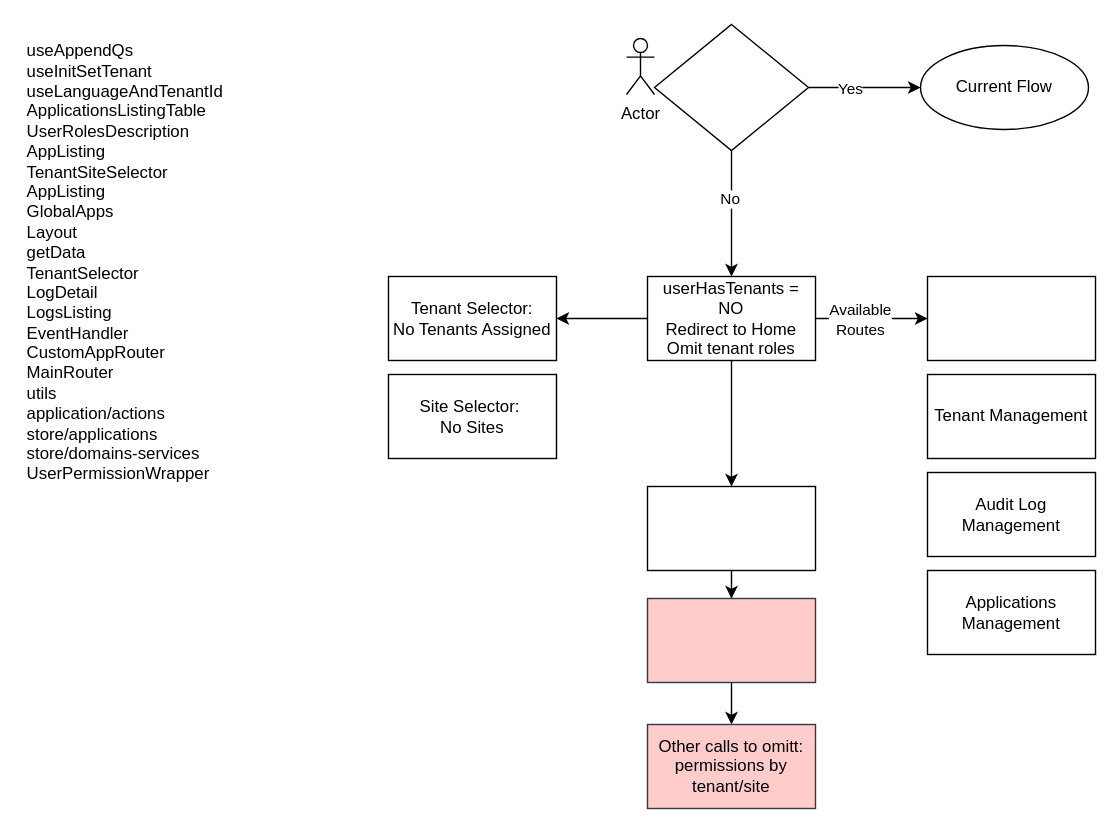
Some shapes in this 1120 by 833 pixel diagram are drawn without their labels. The shapes that lost their labels are listed below. From the top down, each one's centre as x and y in pixels, then its label:
At [730,86]: "user has Tenant assigned".
At [1011,317]: "User Management".
At [731,527]: "Load Global Apps".
At [731,639]: "Do not load Apps by Tenant".
